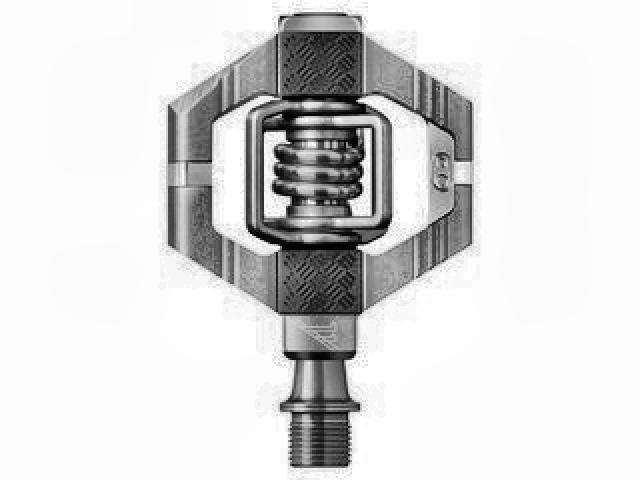pedal: (163, 11, 480, 471)
